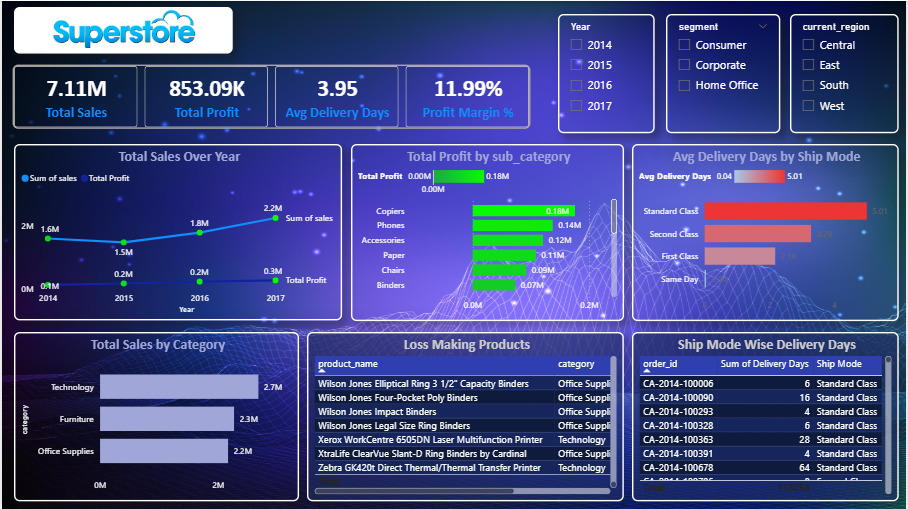

The page's visual inventory and layout, read from the dashboard file:
{"tool":"powerbi","page":{"name":"Page 1","canvas":[1280,720],"ordinal":0},"visuals":[{"type":"cardVisual","fields":{"Data":["fact_sales_final.Total Sales","fact_sales_final.Total Profit","fact_sales_final.Avg Delivery Days","fact_sales_final.Profit Margin %"]},"box":[0,75.7,767.1,121.4],"z":3000},{"type":"lineChart","title":"Total Sales Over Year","fields":{"Category":["fact_sales_final.order_date","Date Table.Year","Date Table.Month No"],"Y":["Sum(fact_sales_final.sales)","fact_sales_final.Total Profit"]},"box":[16.7,203.3,465,250],"z":4000},{"type":"barChart","title":"Total Sales by Category","fields":{"Category":["dim_product_final.category"],"Y":["Sum(fact_sales_final.sales)"]},"box":[17.1,468.6,404.3,240],"z":5000},{"type":"slicer","fields":{"Values":["Date Table.Year"]},"box":[788.6,18.6,137.1,168.6],"z":6000},{"type":"slicer","fields":{"Values":["dim_customer_final.segment"]},"box":[941.1,18.4,161.6,168.7],"z":7000},{"type":"slicer","fields":{"Values":["dim_customer_final.current_region"]},"box":[1116.9,18.4,154.5,168.7],"z":8000},{"type":"barChart","fields":{"Category":["dim_product_final.sub_category"],"Y":["fact_sales_final.Total Profit"]},"box":[494.6,202.7,386.9,250.9],"z":9000},{"type":"tableEx","title":"Loss Making Products","fields":{"Values":["dim_product_final.product_name","dim_product_final.category","fact_sales_final.Total Sales","fact_sales_final.Total Profit"]},"box":[432.3,469.1,449.3,239.5],"z":10000},{"type":"shape","title":"Super Store Sales Dashboard","box":[17.1,8.6,310,65.7],"z":11000},{"type":"barChart","fields":{"Y":["fact_sales_final.Avg Delivery Days"],"Category":["fact_sales_final.Ship Mode"]},"box":[892.9,202.7,378.4,250.9],"z":12000},{"type":"tableEx","title":"Ship Mode Wise Delivery Days","fields":{"Values":["fact_sales_final.order_id","Sum(fact_sales_final.Delivery Days)","fact_sales_final.Ship Mode"]},"box":[892.9,469.1,378.4,239.5],"z":13000},{"type":"image","box":[56.7,8.5,232.4,65.2],"z":14000}]}

Visuals, with their boxes in screenshot pixels (x1, y1, x2, y2), scaled from the page's 1280x720 canvas onto the 908x509 screenshot:
cardVisual - fact_sales_final.Total Sales x fact_sales_final.Total Profit: 0,54,544,139
"Total Sales Over Year" lineChart: 12,144,342,320
"Total Sales by Category" barChart: 12,331,299,501
slicer - Date Table.Year: 559,13,657,132
slicer - dim_customer_final.segment: 668,13,782,132
slicer - dim_customer_final.current_region: 792,13,902,132
barChart - dim_product_final.sub_category x fact_sales_final.Total Profit: 351,143,625,321
"Loss Making Products" tableEx: 307,332,625,501
"Super Store Sales Dashboard" shape: 12,6,232,53
barChart - fact_sales_final.Avg Delivery Days x fact_sales_final.Ship Mode: 633,143,902,321
"Ship Mode Wise Delivery Days" tableEx: 633,332,902,501
image: 40,6,205,52
